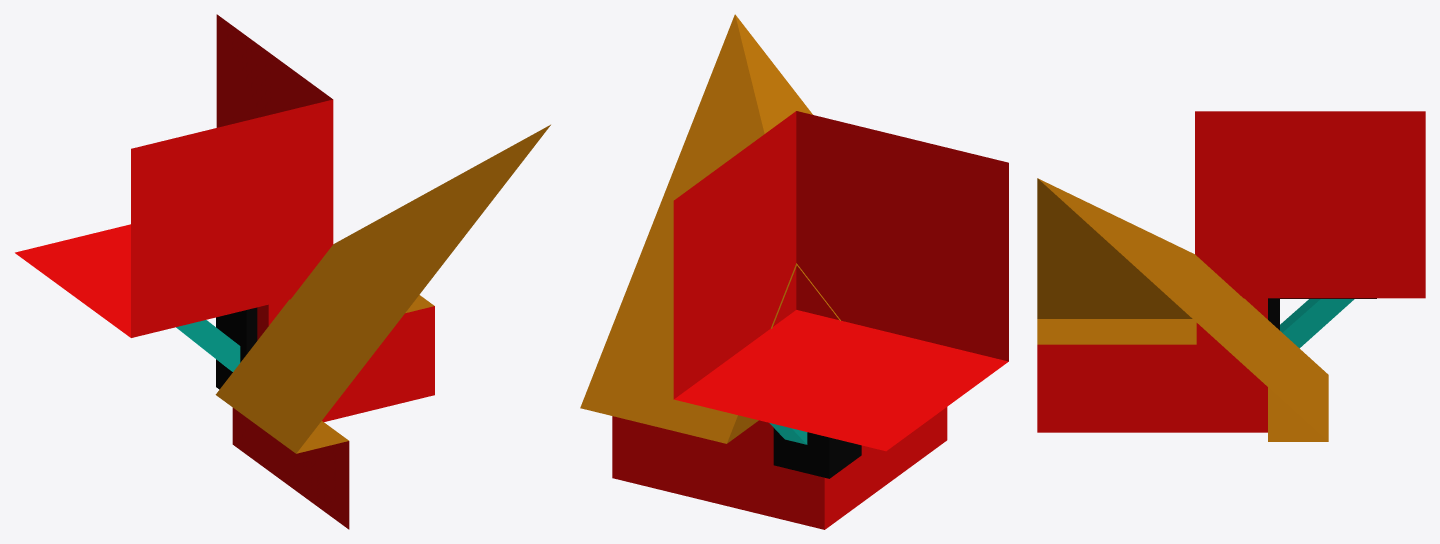
3 renders of one model, left to right at view 1: azimuth 30°, elevation 25°; view 2: azimuth 150°, elevation 25°; view 3: azimuth 270°, elevation 25°, orthographic. The views are drawn at different scales.
Parts seen in each view (by area): view 1: None_E_S_E_E_E_E_A_E_None; view 2: None_E_S_E_E_E_E_A_E_None; view 3: None_E_S_E_E_E_E_A_E_None.
Boxes of the visible parts, bbox=[...] form: None_E_S_E_E_E_E_A_E_None: bbox=[15, 14, 550, 529]; None_E_S_E_E_E_E_A_E_None: bbox=[580, 14, 1008, 529]; None_E_S_E_E_E_E_A_E_None: bbox=[1037, 111, 1425, 441].
Bounding box in the file's own units: 100 × 100 × 100.
